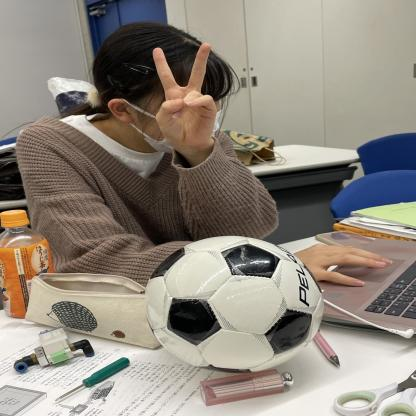ball: (146, 237, 320, 373)
